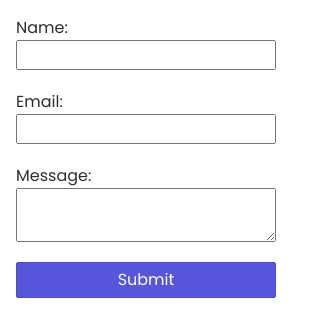
Test case: ContactFormPopup › submits form data
The width and height of the screenshot is (320, 315).
Type "John Doe" into the field labelled "Name:".
click(146, 55); type("John Doe")  # box top-left (16, 40), bottom-right (276, 70)
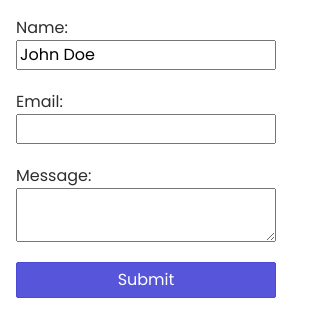
Type "johndoe@example.com" into the field labelled "Email:".
click(146, 129); type("johndoe@example.com")  # box top-left (16, 114), bottom-right (276, 144)
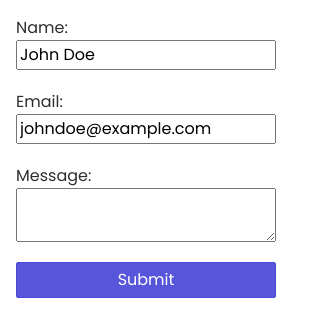
Type "Hello, this is a test message." into the text box labelled "Message:".
click(146, 215); type("Hello, this is a test message.")  # box top-left (16, 188), bottom-right (276, 242)
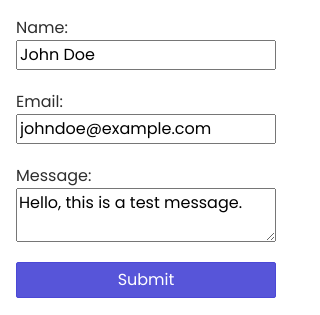
// Відправлення форми
Click the button "Submit".
click(146, 280)  # box top-left (16, 262), bottom-right (276, 298)
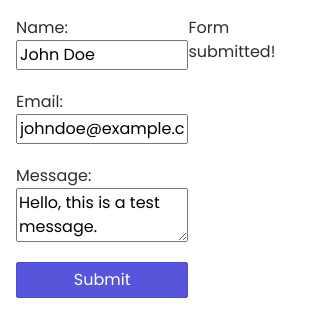
Now the text "Form submitted!" is shown, box top-left (188, 16), bottom-right (275, 63)
